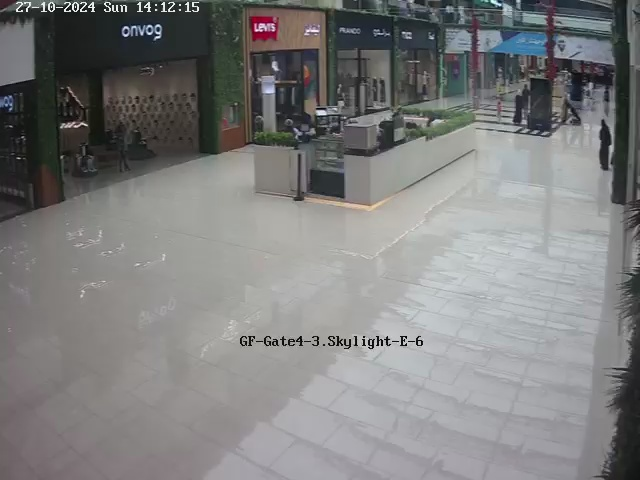female: (598, 118, 612, 170)
